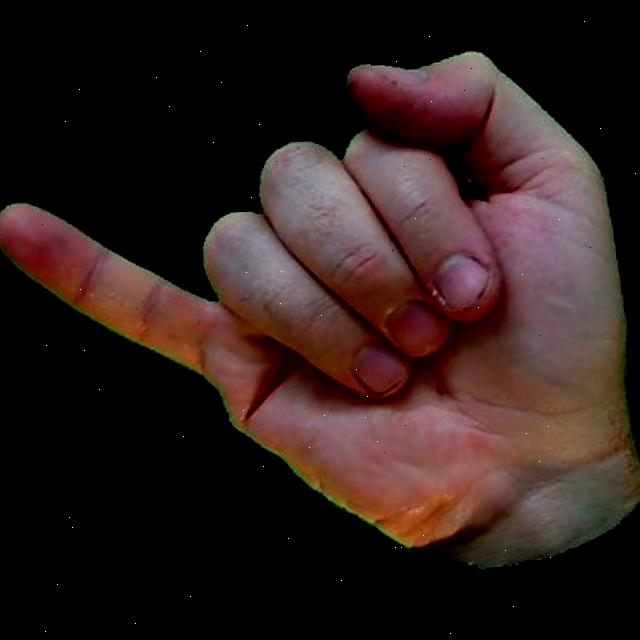j: (0, 31, 640, 603)
